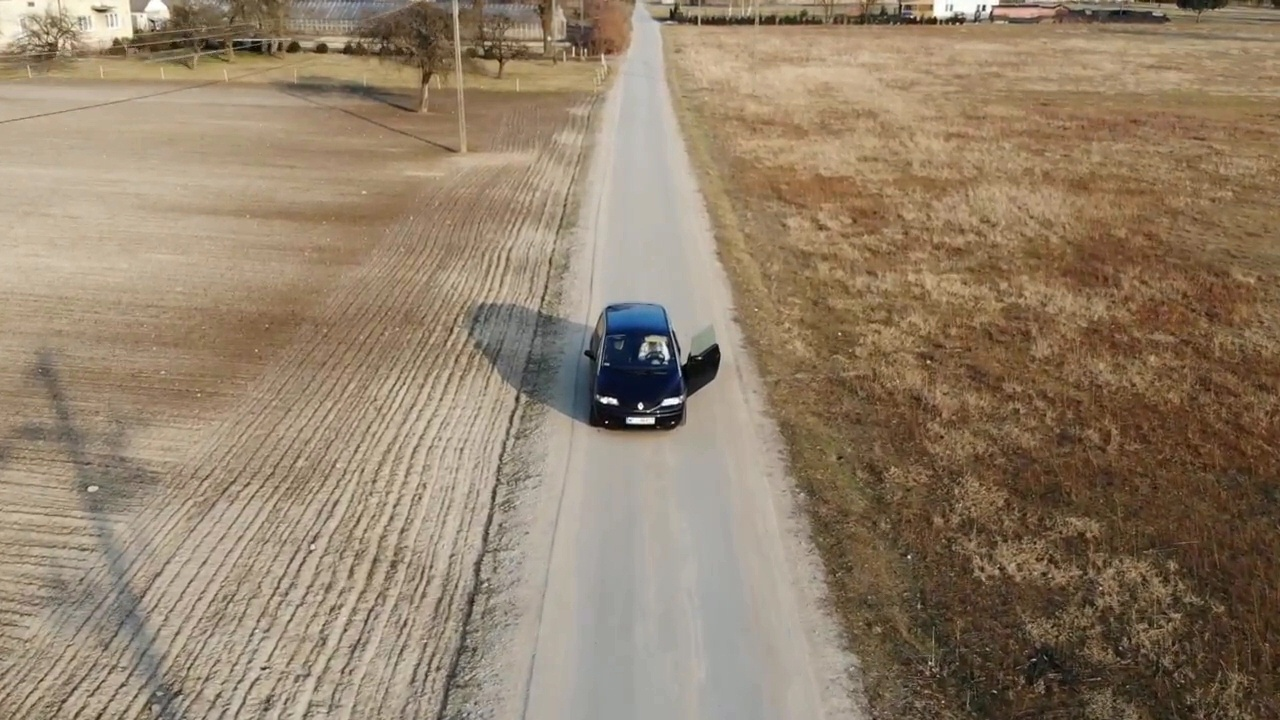araba: (588, 303, 685, 433)
